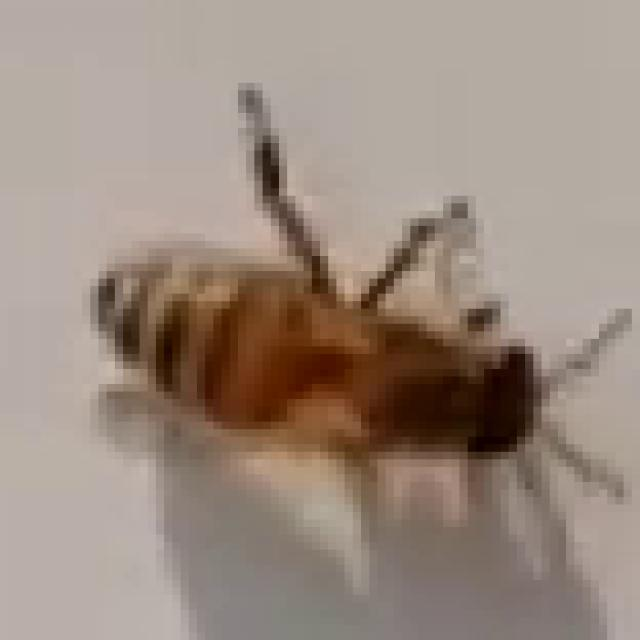honeybee: (95, 166, 537, 484)
